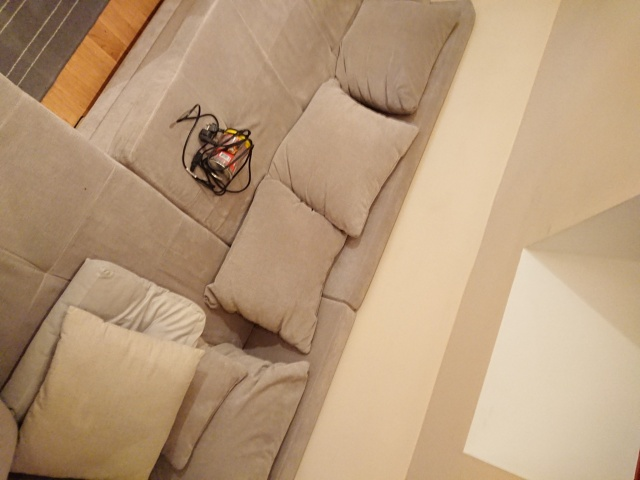Nescafe Classic 225g: (206, 126, 255, 184)
